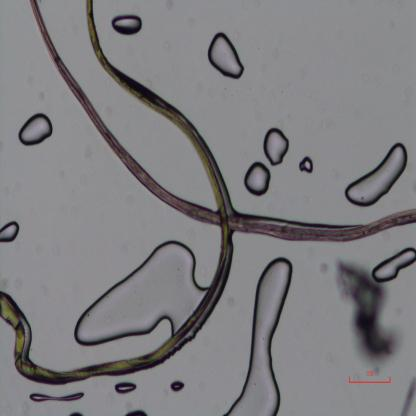Air bubble: (72, 240, 203, 350), (225, 257, 294, 415), (343, 143, 407, 208), (206, 28, 245, 80), (371, 247, 416, 283), (16, 111, 54, 146), (263, 126, 290, 168), (243, 160, 272, 198), (28, 390, 84, 404), (112, 14, 142, 36), (401, 377, 416, 414), (0, 218, 20, 243), (115, 382, 138, 395), (299, 156, 314, 174), (170, 378, 185, 394), (122, 407, 148, 415)
Background material: (334, 262, 401, 368), (69, 410, 84, 416)
Microfibre: (30, 0, 416, 241), (0, 1, 233, 383)
